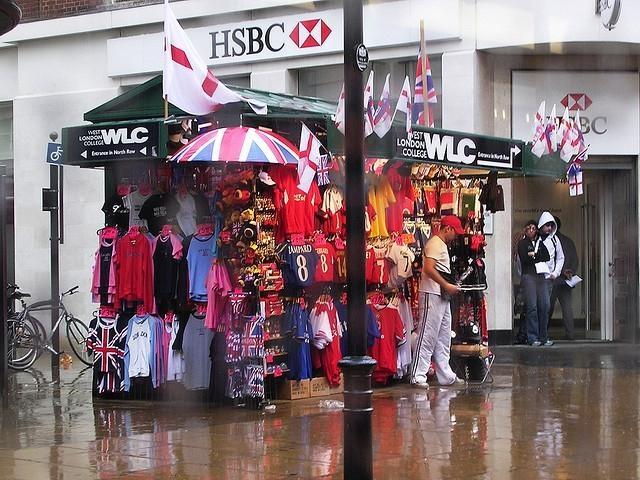bicycle: (5, 289, 91, 370), (7, 282, 48, 338)
